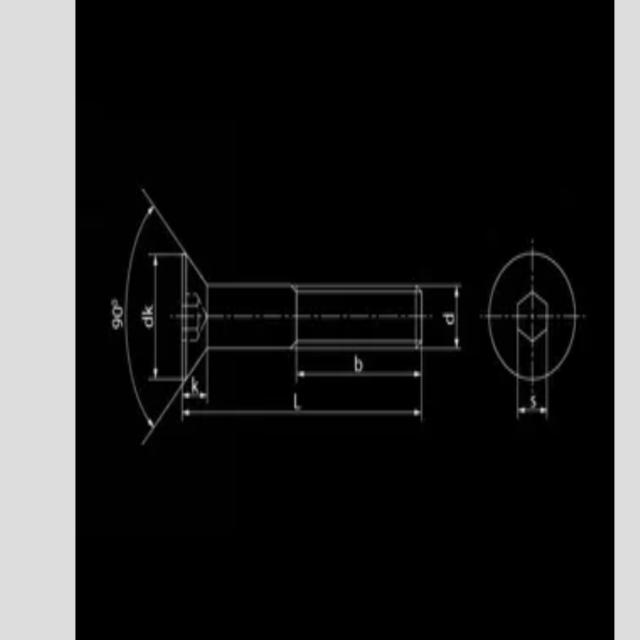marking_line: (123, 185, 182, 447), (180, 381, 425, 420), (148, 251, 182, 383), (295, 353, 426, 383), (424, 282, 464, 350), (515, 382, 549, 422)
